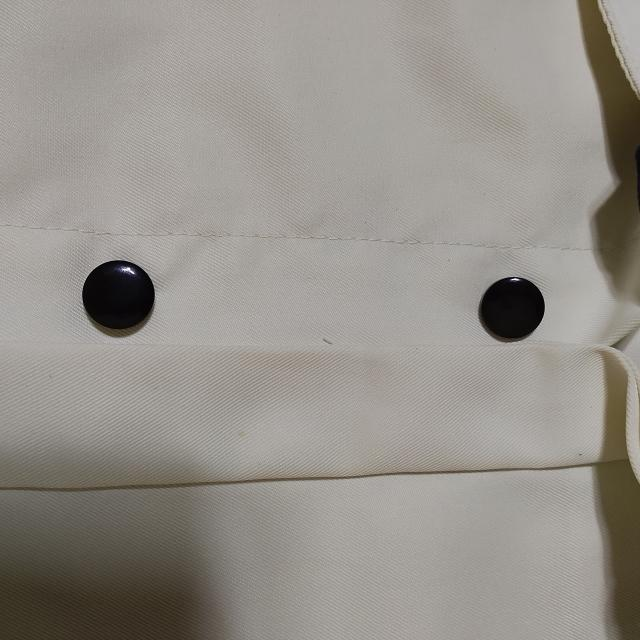education_male_uniform: (0, 0, 447, 391)
